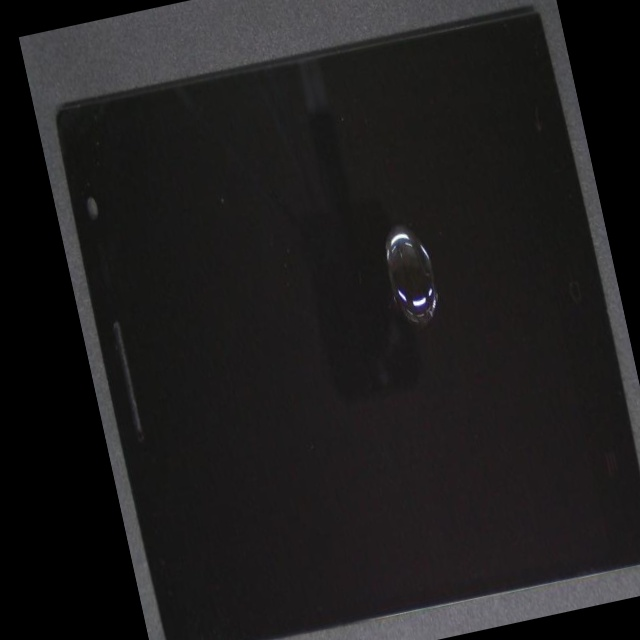oil: (206, 25, 579, 431)
